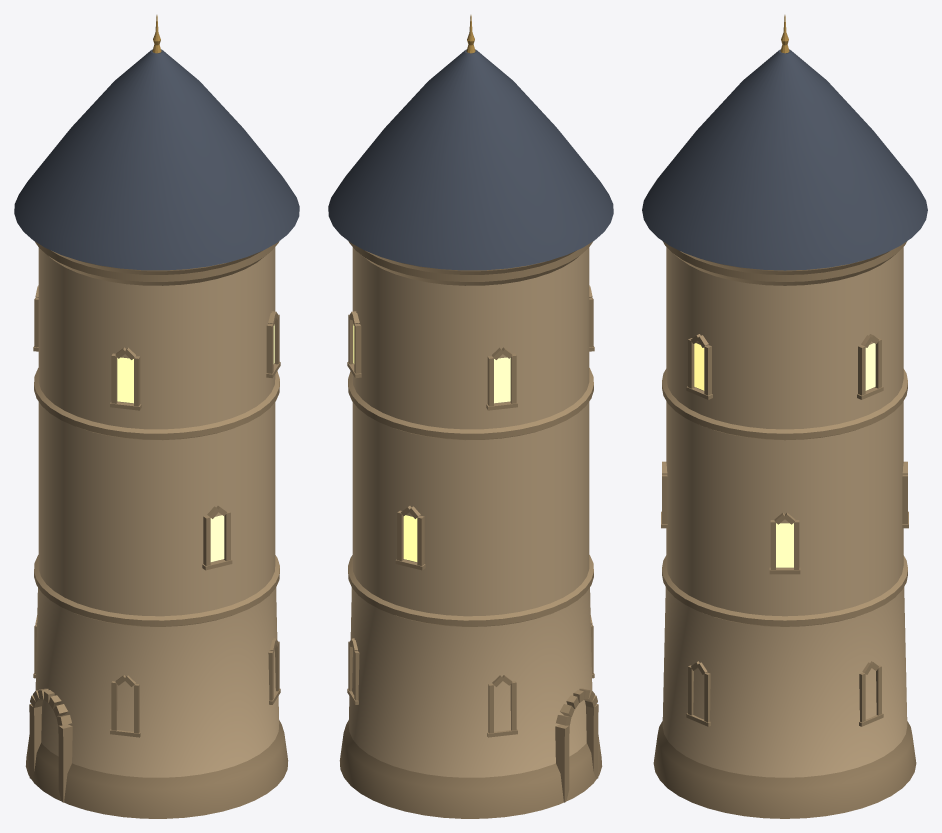
Rendered from round_tower.glb.
The picture shows the model from 3 angles, left to right: view 1: azimuth 30°, elevation 25°; view 2: azimuth 150°, elevation 25°; view 3: azimuth 270°, elevation 25°; orthographic projection.
Visible parts, largest first — view 1: round_tower; view 2: round_tower; view 3: round_tower.
Part boxes in pixels (x1,y1,x2,y2): round_tower: [14, 15, 299, 818]; round_tower: [328, 15, 613, 818]; round_tower: [642, 15, 927, 818].
Size of the model in its own units: 11.1 by 32.1 by 11.1.
